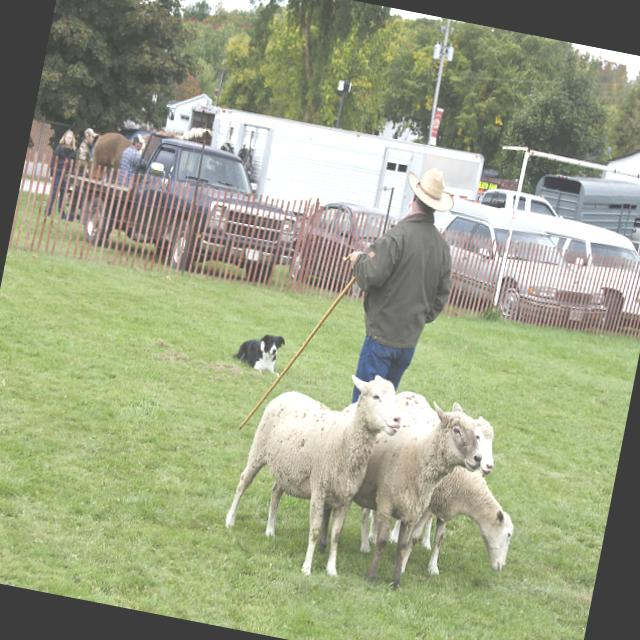Vehicle: (49, 117, 315, 293), (418, 210, 618, 342), (424, 192, 620, 302), (499, 209, 640, 337), (284, 194, 399, 304), (529, 166, 640, 249), (478, 184, 568, 222)
